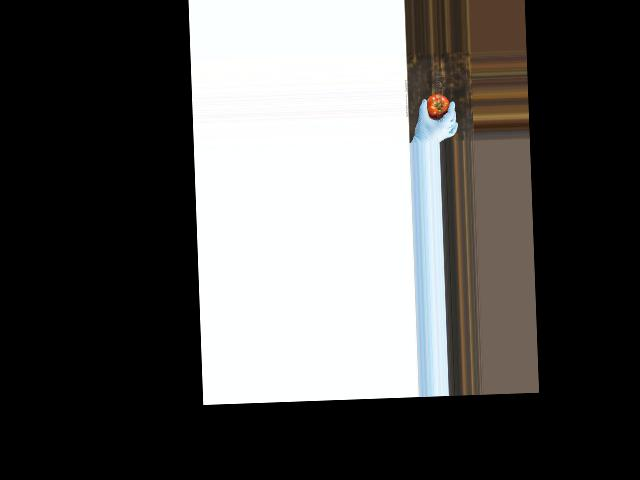tomato: (426, 92, 449, 118)
